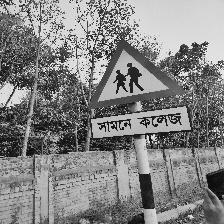College-in-front: (82, 33, 187, 148)
